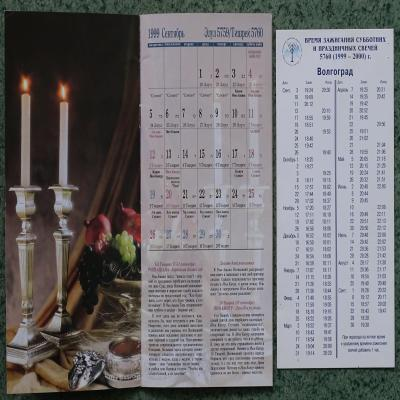graphics: (4, 9, 274, 394), (275, 26, 397, 371)
